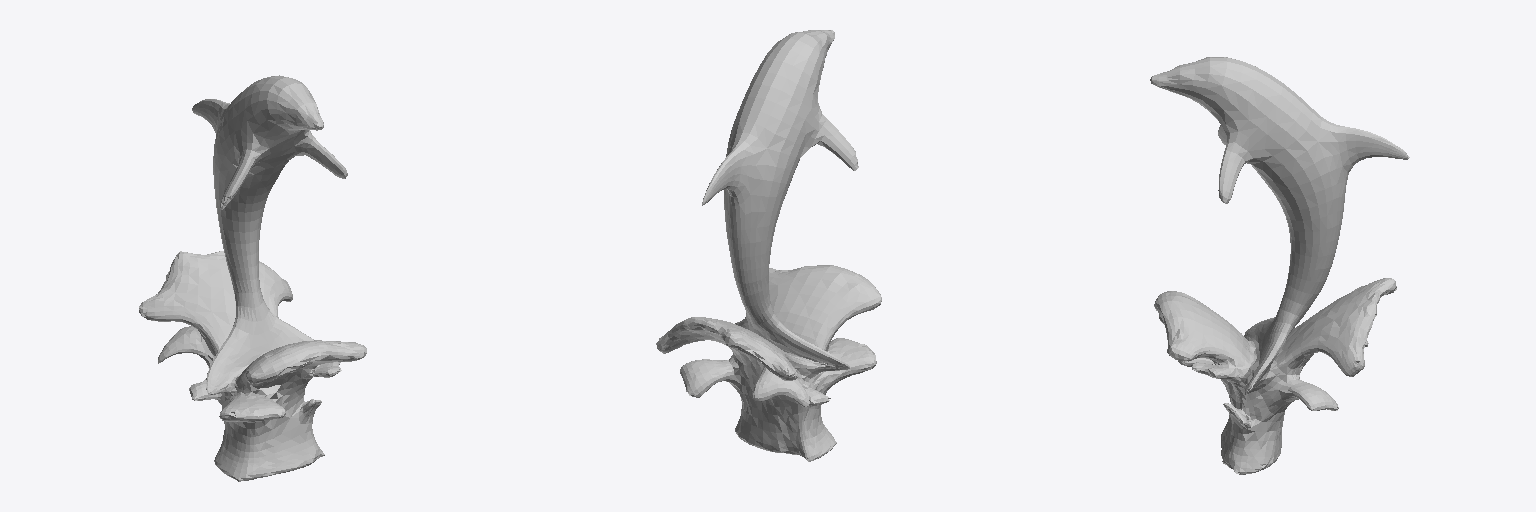
Rendered from DLPHA0.obj.
The picture shows the model from 3 angles: view 1: azimuth 30°, elevation 25°; view 2: azimuth 150°, elevation 25°; view 3: azimuth 270°, elevation 25°; orthographic projection.
Parts seen in each view (by area): view 1: Retopo_13182_LeapingDolphinStatue_v1_NEW_mesh; view 2: Retopo_13182_LeapingDolphinStatue_v1_NEW_mesh; view 3: Retopo_13182_LeapingDolphinStatue_v1_NEW_mesh.
Boxes of the visible parts, <box> form: Retopo_13182_LeapingDolphinStatue_v1_NEW_mesh: <box>139,75,366,481</box>; Retopo_13182_LeapingDolphinStatue_v1_NEW_mesh: <box>656,30,881,461</box>; Retopo_13182_LeapingDolphinStatue_v1_NEW_mesh: <box>1150,57,1409,474</box>.
Bounding box in the file's own units: 1.34 × 3.5 × 2.09.